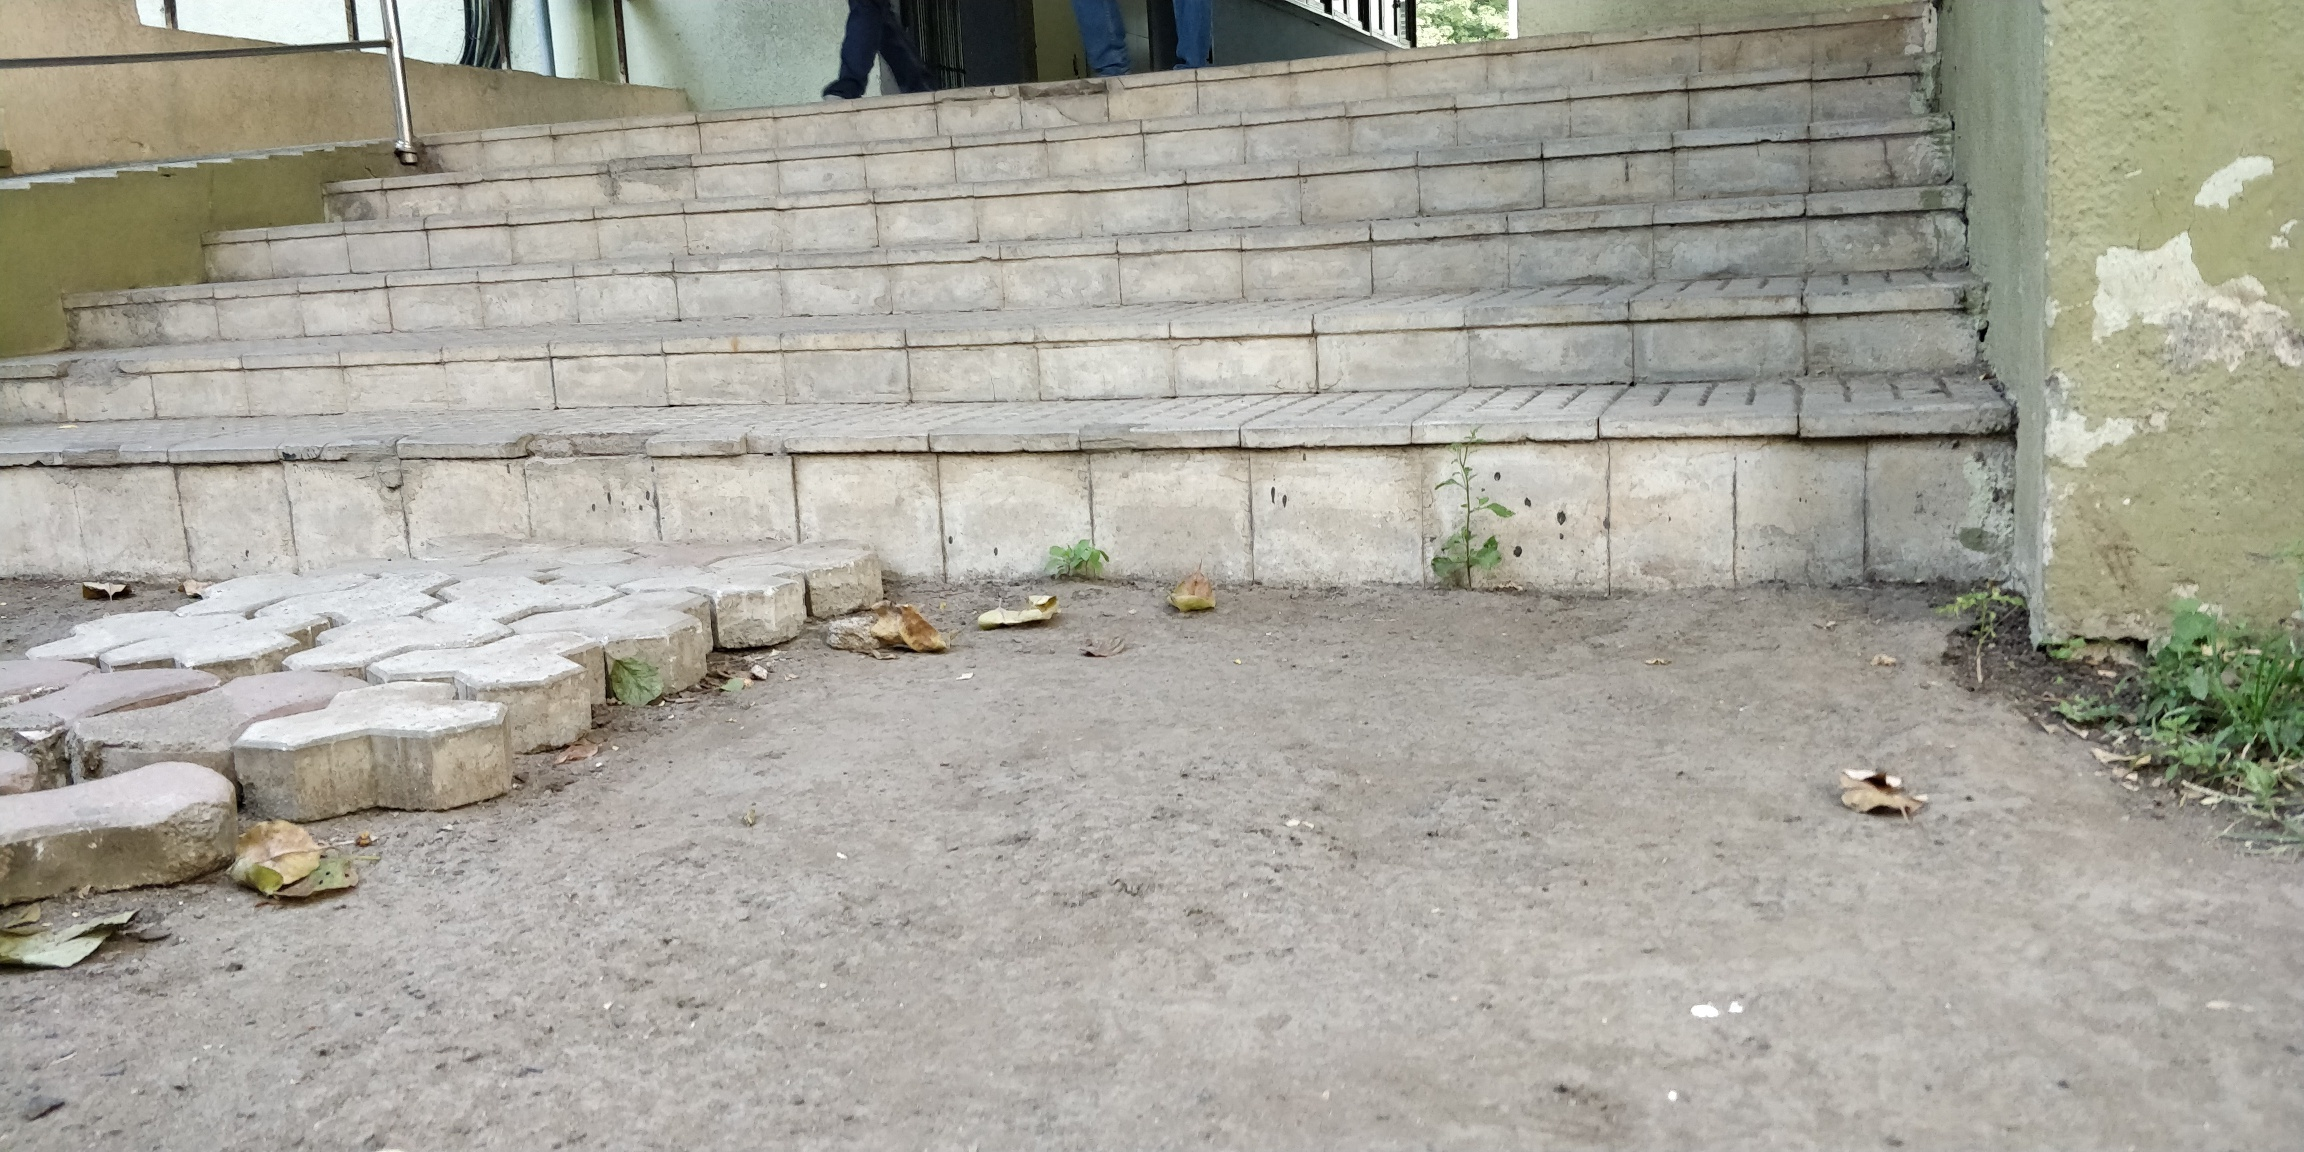stairs_up: (13, 3, 1918, 617)
